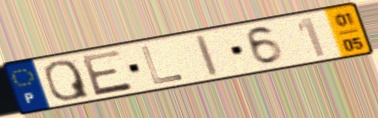1: (295, 15, 327, 59)
6: (244, 24, 286, 67)
E: (78, 48, 136, 98)
I: (193, 32, 221, 78)
L: (138, 44, 187, 86)
Q: (42, 59, 93, 102)
